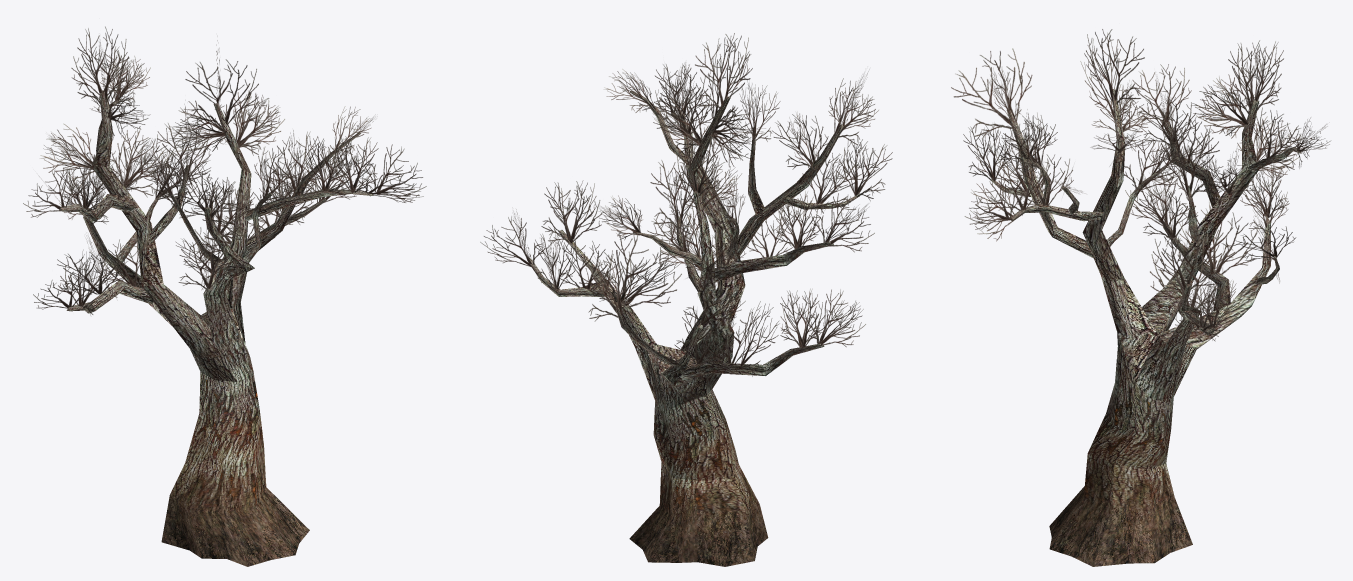
Rendered from hr_tree01.glb.
3 renders of one model, left to right at view 1: azimuth 30°, elevation 25°; view 2: azimuth 150°, elevation 25°; view 3: azimuth 270°, elevation 25°, orthographic.
Parts seen in each view (by area): view 1: hr_tree01-col; view 2: hr_tree01-col; view 3: hr_tree01-col.
Boxes of the visible parts, box(x1,y1,x2,y2) form: hr_tree01-col: box(23, 26, 426, 566); hr_tree01-col: box(480, 33, 892, 566); hr_tree01-col: box(951, 29, 1330, 566).
Bounding box in the file's own units: 13.27 × 17.08 × 12.4.
4 materials, 4 textured.
